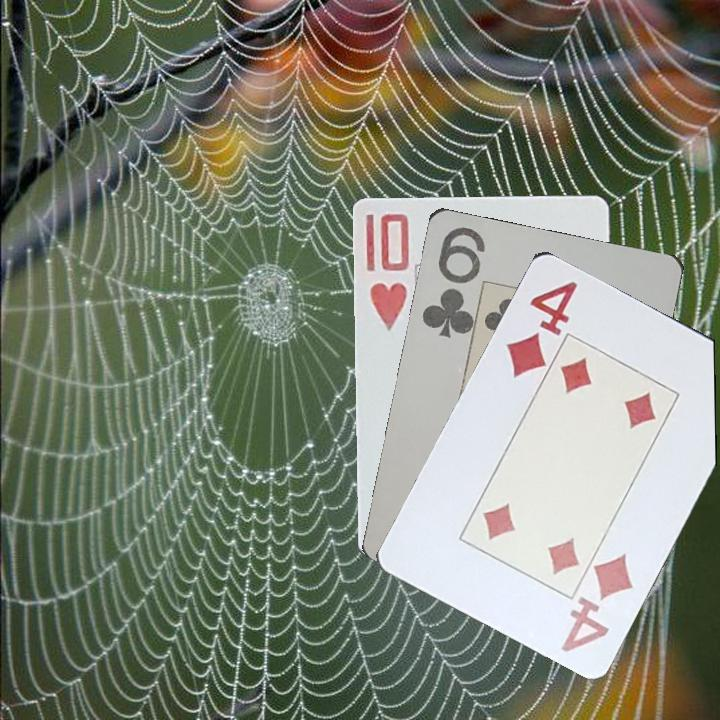4d: (557, 548, 637, 655), (502, 277, 580, 381)
6c: (418, 222, 488, 341)
Th: (366, 209, 412, 334)
